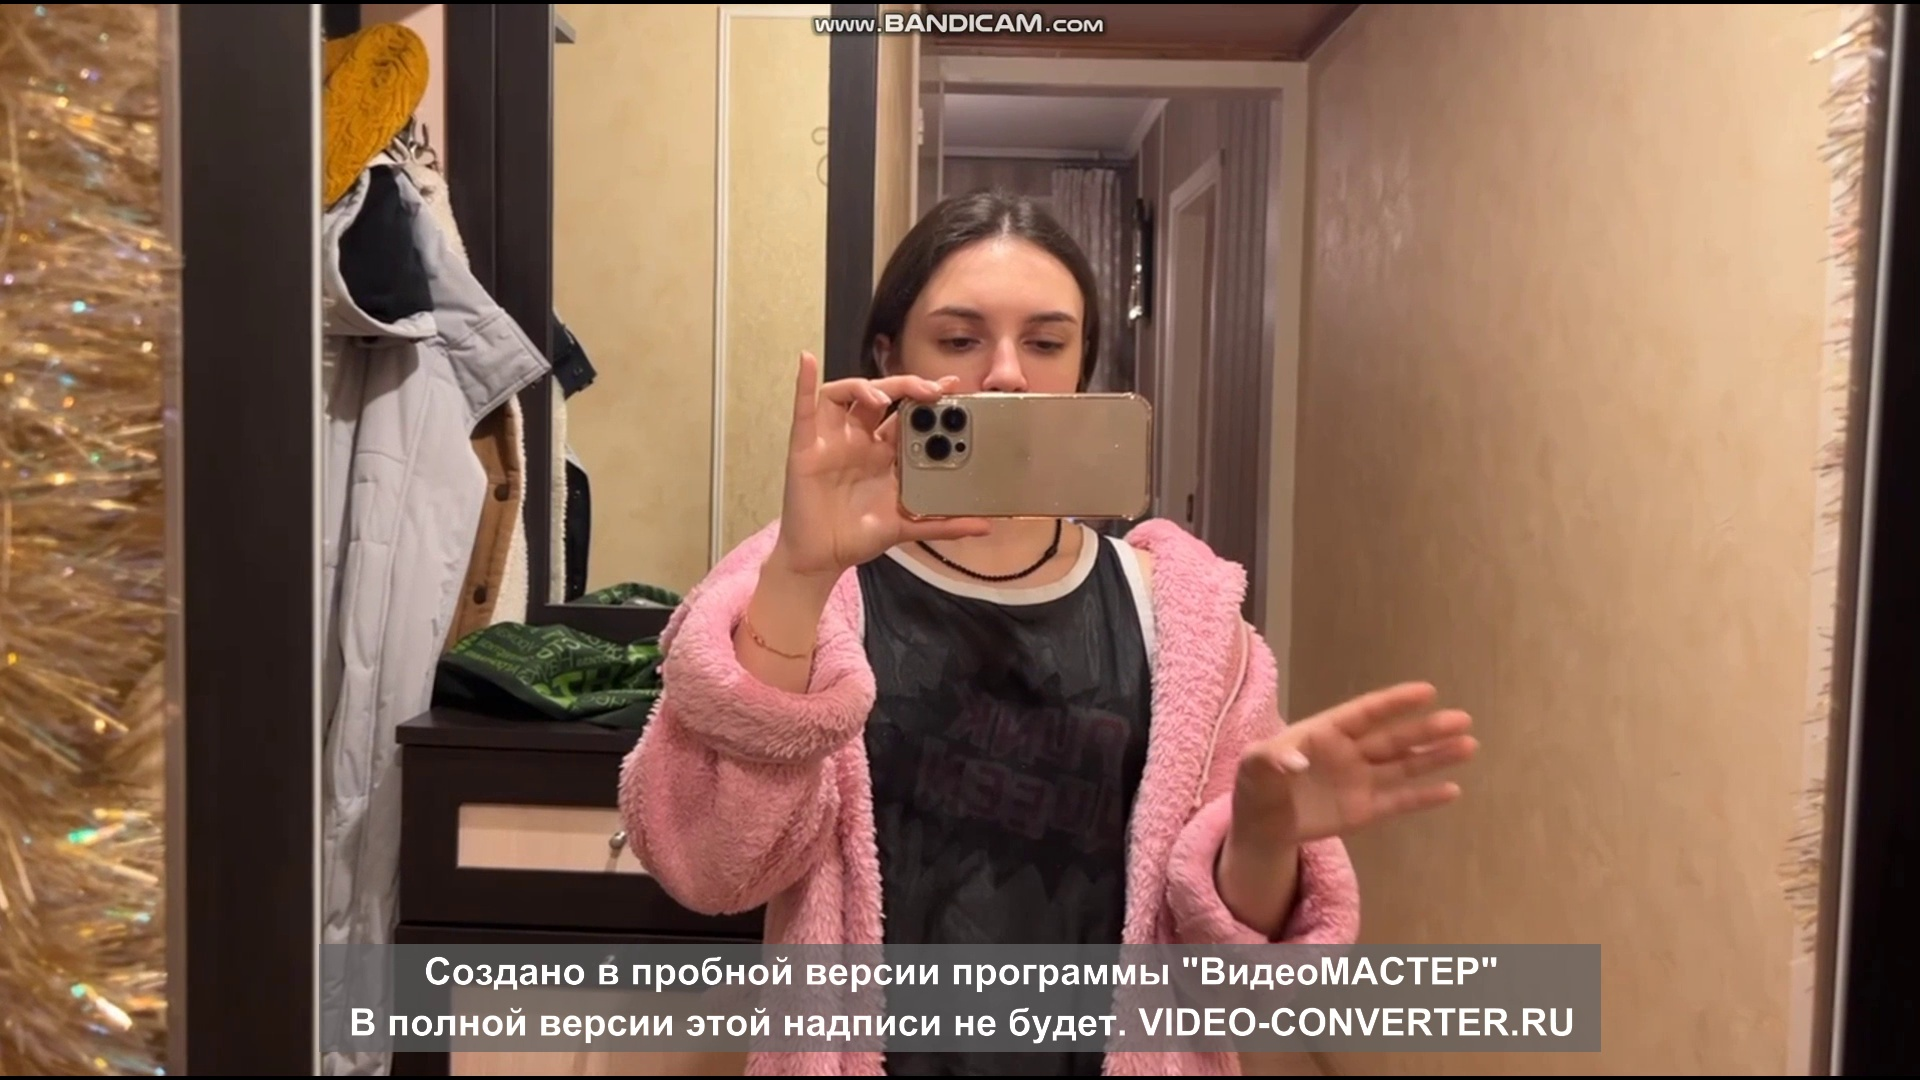Ладонь: (1232, 676, 1480, 837)
